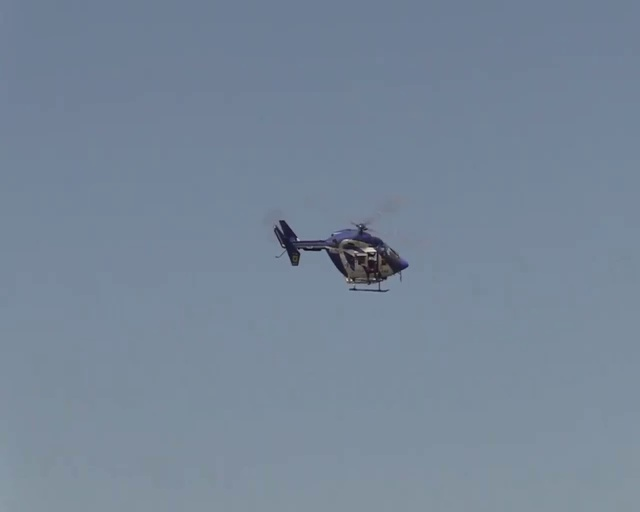HELICOPTER: (271, 218, 410, 293)
